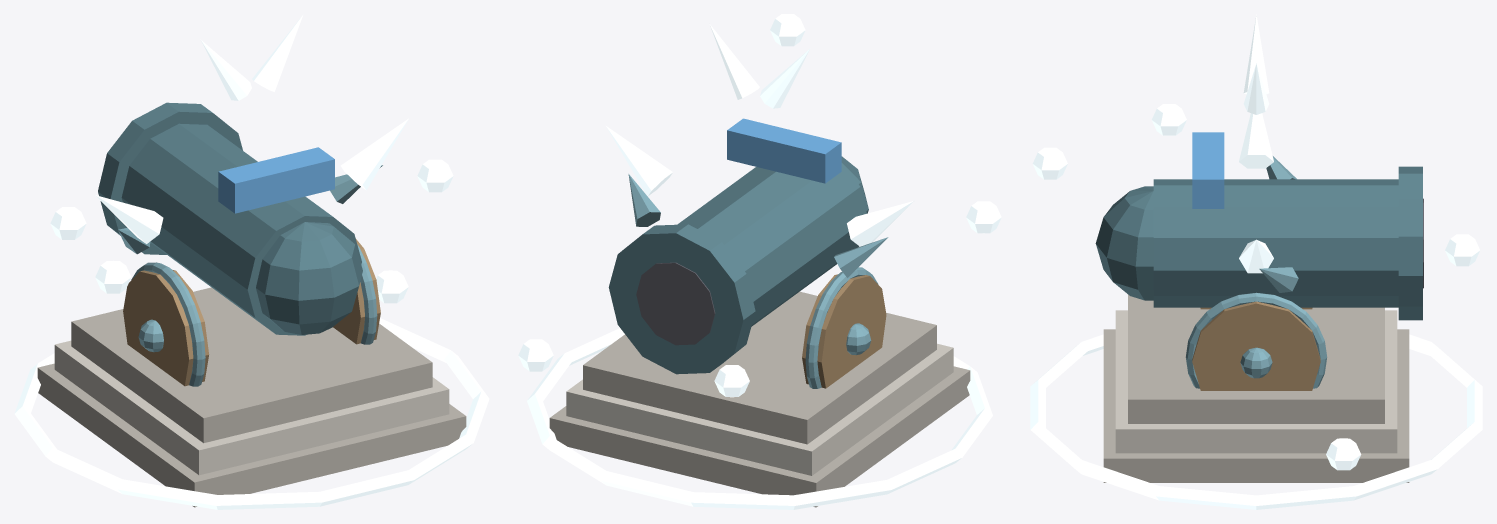
Rendered from evolved_cannon.glb.
3 views of the same model, side by side, from view 1: azimuth 30°, elevation 25°; view 2: azimuth 150°, elevation 25°; view 3: azimuth 270°, elevation 25° (orthographic). The views are drawn at different scales.
Visible parts, largest first — view 1: evolved_cannon; view 2: evolved_cannon; view 3: evolved_cannon.
Part boxes in pixels (x1,y1,x2,y2): evolved_cannon: (14, 15, 489, 509); evolved_cannon: (518, 14, 1001, 509); evolved_cannon: (1030, 14, 1482, 509).
Bounding box in the file's own units: 3.17 × 2.87 × 3.09.
